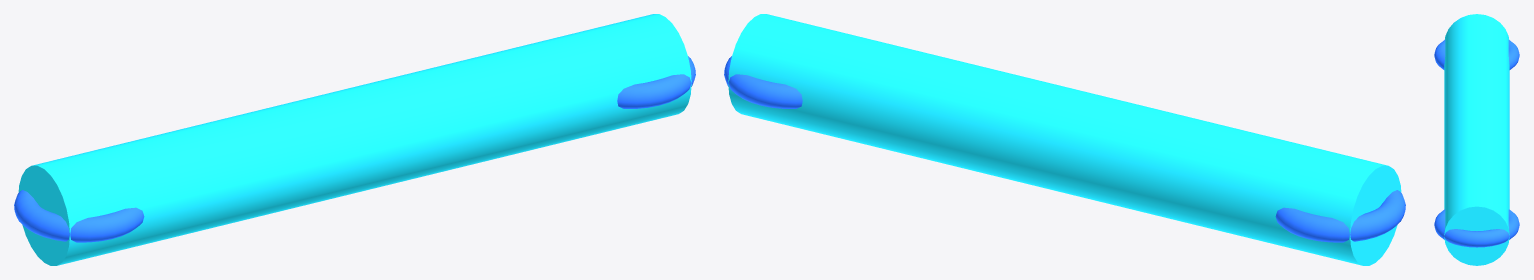
File: pipe-straight.glb
3 views of the same model, side by side, from view 1: azimuth 30°, elevation 25°; view 2: azimuth 150°, elevation 25°; view 3: azimuth 270°, elevation 25° (orthographic). The views are drawn at different scales.
Parts seen in each view (by area): view 1: Straight service pipe; view 2: Straight service pipe; view 3: Straight service pipe.
Boxes of the visible parts, x1=… form: Straight service pipe: x1=14, y1=14, x2=695, y2=265; Straight service pipe: x1=724, y1=14, x2=1405, y2=265; Straight service pipe: x1=1434, y1=14, x2=1519, y2=265.
Size of the model in its own units: 2.67 by 0.36 by 0.47.
